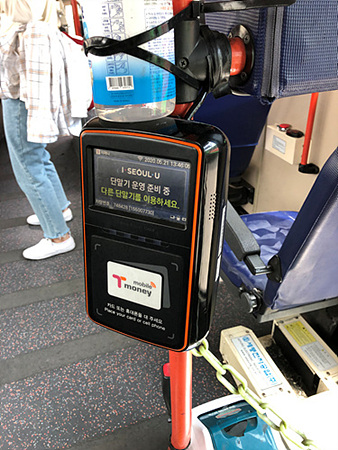terminal: (83, 113, 209, 341)
